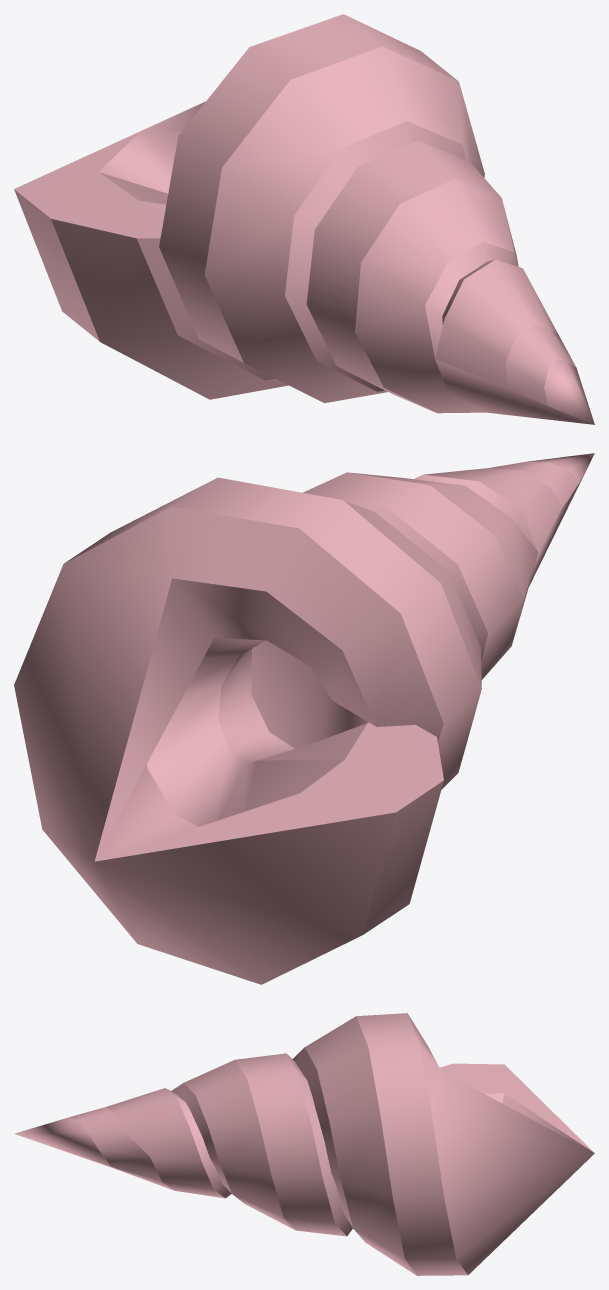
The model's file is HornShell.fbx.
The picture shows the model from 3 angles, top to bottom: view 1: azimuth 30°, elevation 25°; view 2: azimuth 150°, elevation 25°; view 3: azimuth 270°, elevation 25°; orthographic projection. The views are drawn at different scales.
Visible parts, largest first — view 1: HornShell; view 2: HornShell; view 3: HornShell.
Part boxes in pixels (x1=…): HornShell: x1=14, y1=14, x2=594, y2=424; HornShell: x1=14, y1=453, x2=594, y2=984; HornShell: x1=14, y1=1013, x2=594, y2=1275.
Bounding box in the file's own units: 0.9923 × 0.8797 × 1.99.
